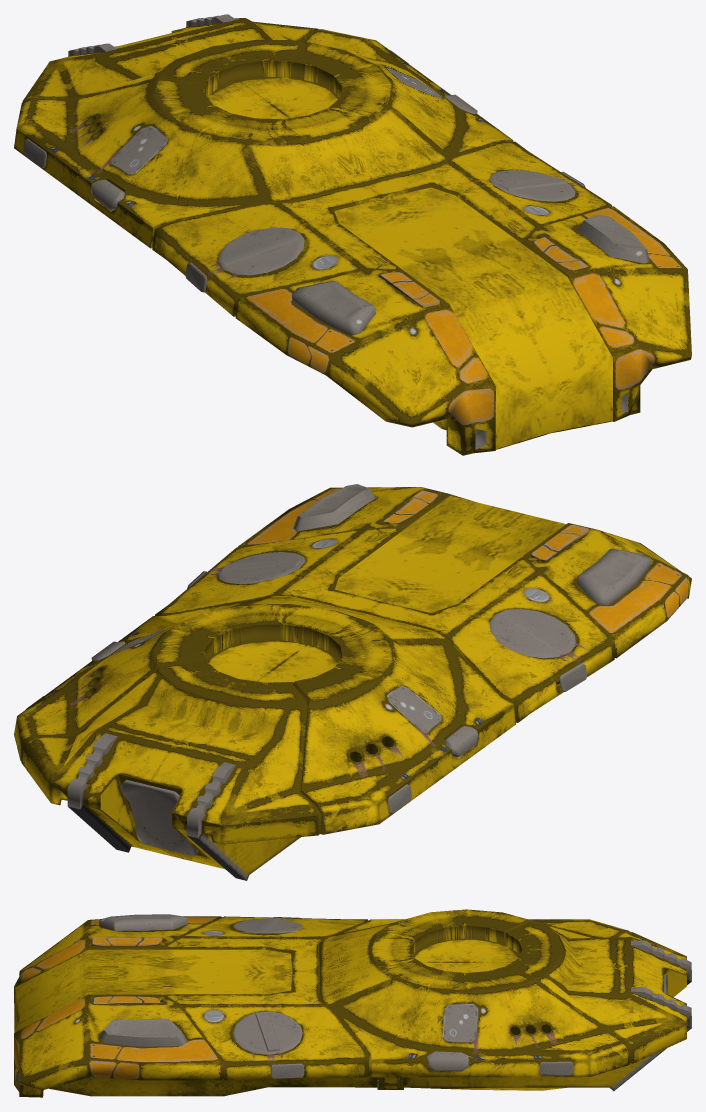
File: mobile_crane_body.fbx
3 views of the same model, one above another, from view 1: azimuth 30°, elevation 25°; view 2: azimuth 150°, elevation 25°; view 3: azimuth 270°, elevation 25° (orthographic). The views are drawn at different scales.
Visible parts, largest first — view 1: mobile_crane_body; view 2: mobile_crane_body; view 3: mobile_crane_body.
Boxes of the visible parts, x1=… form: mobile_crane_body: x1=14, y1=14, x2=691, y2=455; mobile_crane_body: x1=14, y1=484, x2=691, y2=880; mobile_crane_body: x1=14, y1=909, x2=691, y2=1097.
Bounding box in the file's own units: 671 × 254 × 1276.
